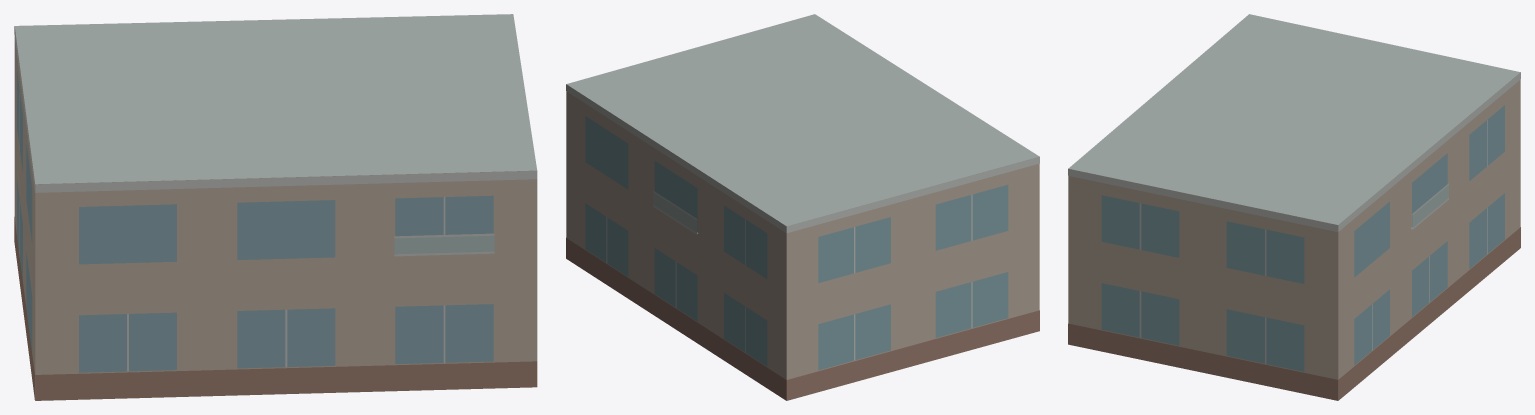
The model's file is survey-upis-32880274.glb.
3 renders of one model, left to right at view 1: azimuth 30°, elevation 25°; view 2: azimuth 150°, elevation 25°; view 3: azimuth 270°, elevation 25°, orthographic. The views are drawn at different scales.
Visible parts, largest first — view 1: survey-upis-32880274.tmp; view 2: survey-upis-32880274.tmp; view 3: survey-upis-32880274.tmp.
Part boxes in pixels (x1,y1,x2,y2): survey-upis-32880274.tmp: [14, 14, 537, 400]; survey-upis-32880274.tmp: [566, 14, 1039, 400]; survey-upis-32880274.tmp: [1068, 14, 1520, 400].
Size of the model in its own units: 15.71 by 6.1 by 14.24.
